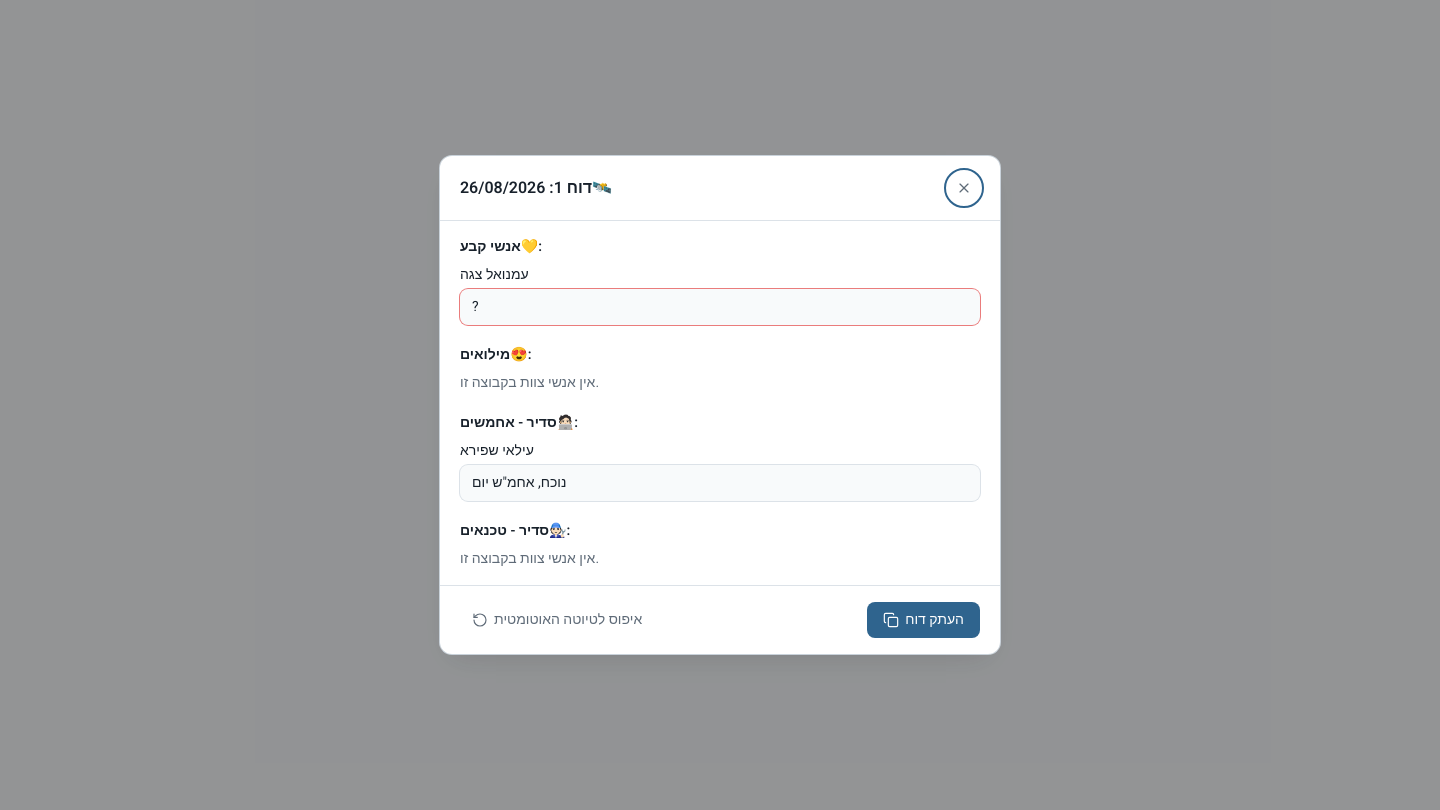
Test: ReportOneEditorOverlay › copying writes the formatted report (including any manual edits) to the clipboard and shows feedback
Replace the text in the field named "סטטוס עבור עמנואל צגה" with "נוכח, מגיע בערב" at [720, 307], box [460,289,980,325]
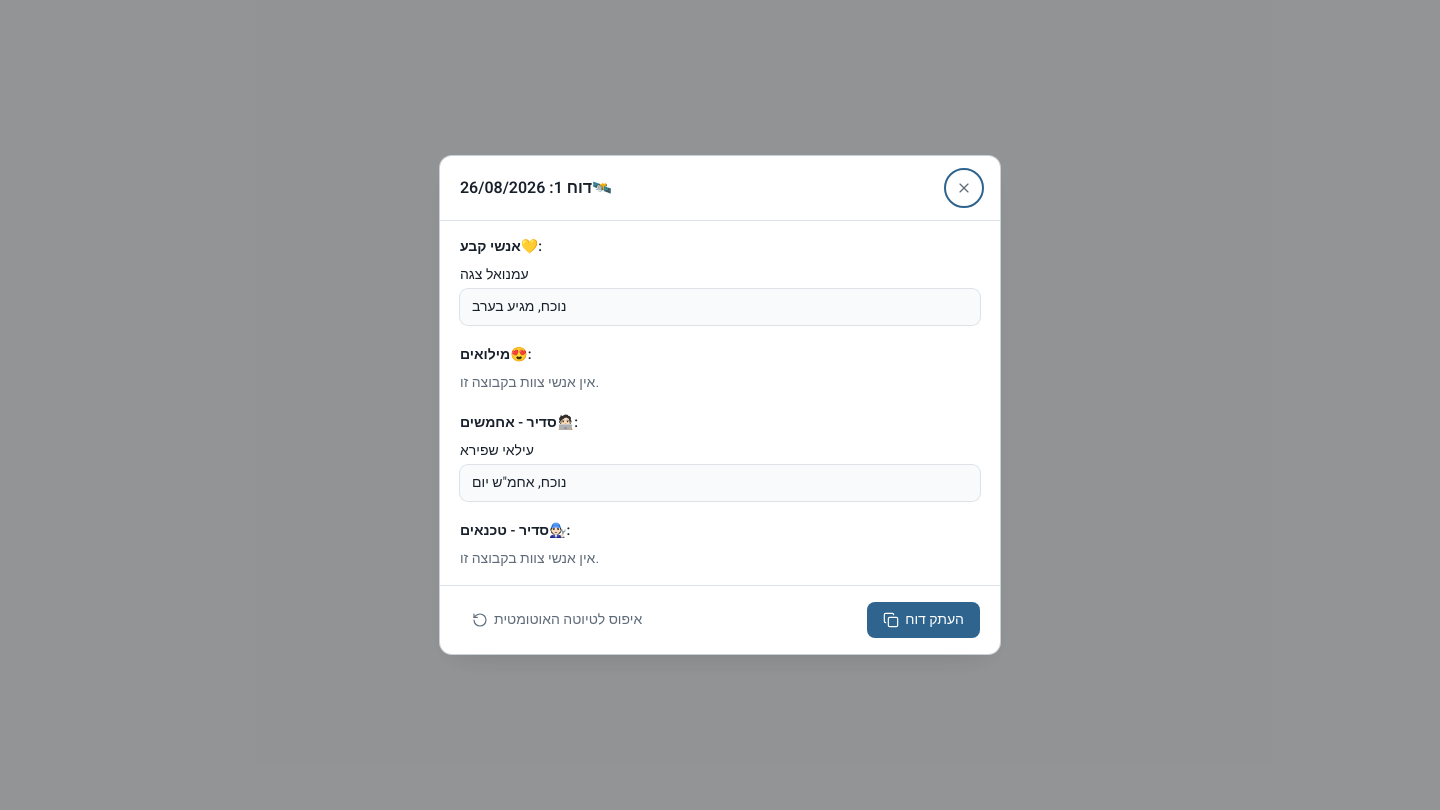
Click the button "העתק דוח" at [924, 620], box [867,602,980,638]
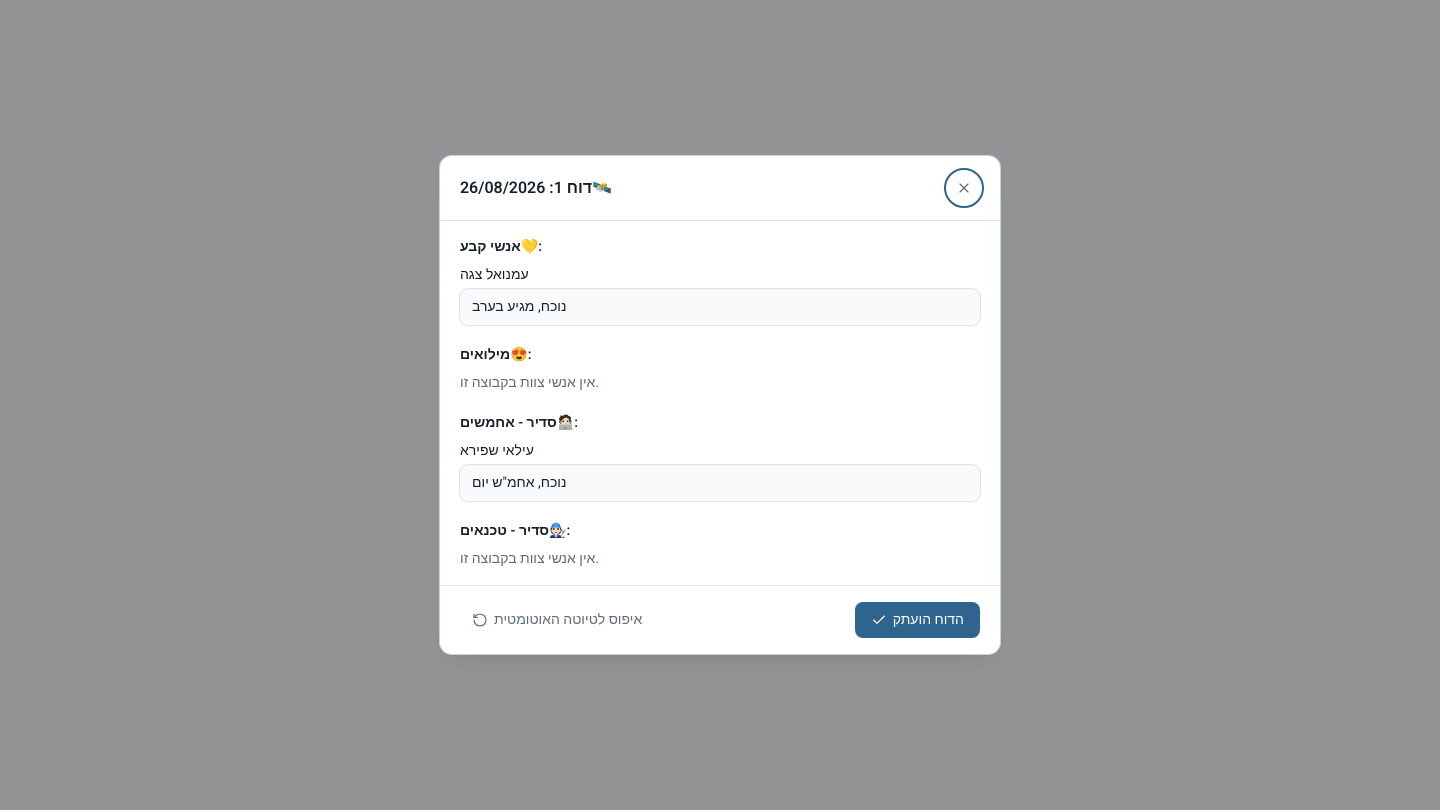
Result: the button "הדוח הועתק" is shown at [855,602,980,638]
